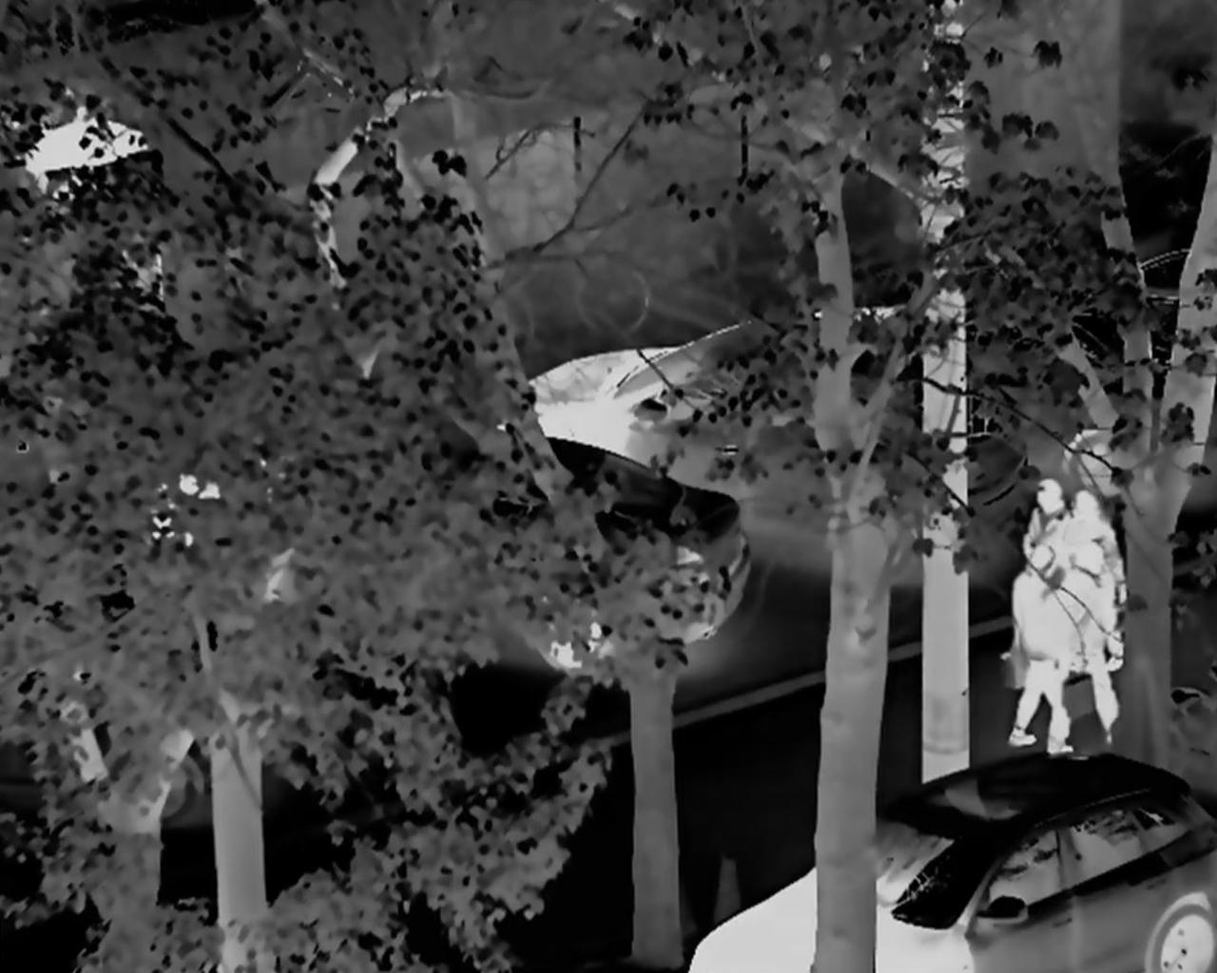person: (1057, 485, 1129, 682), (1011, 544, 1074, 755), (1011, 476, 1076, 661), (1062, 536, 1121, 735)
